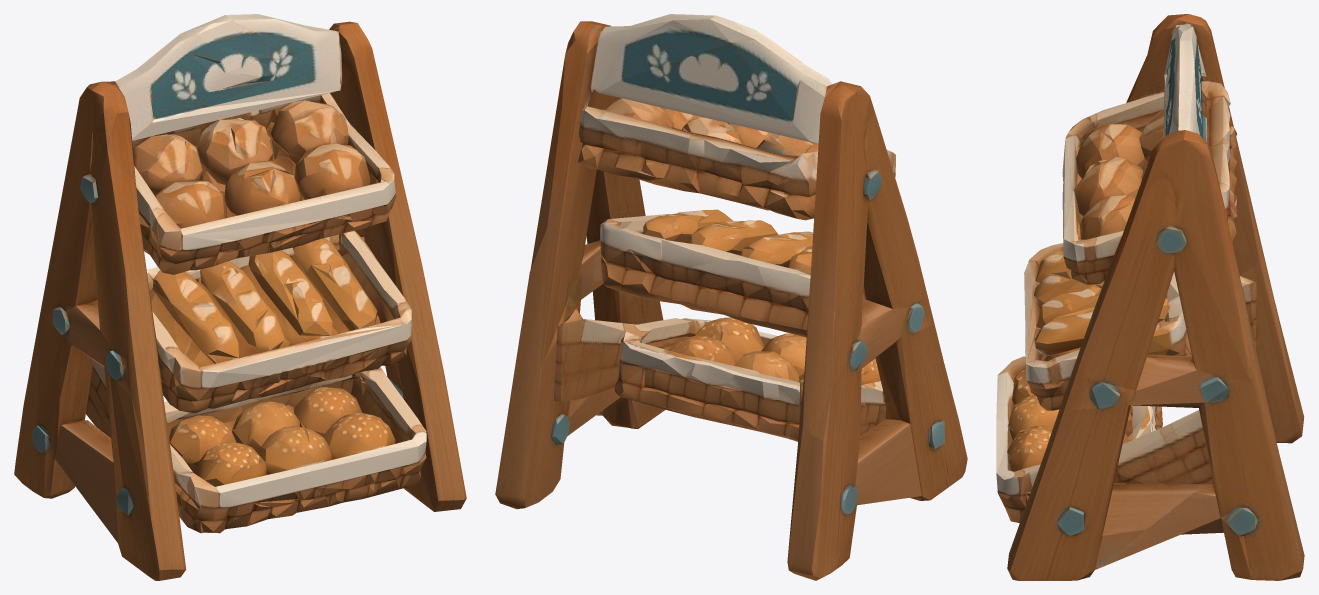
Rendered from breadStand.glb.
3 views of the same model, side by side, from view 1: azimuth 30°, elevation 25°; view 2: azimuth 150°, elevation 25°; view 3: azimuth 270°, elevation 25° (orthographic). The views are drawn at different scales.
Visible parts, largest first — view 1: Mesh_0; view 2: Mesh_0; view 3: Mesh_0.
Part boxes in pixels (x1,y1,x2,y2): Mesh_0: [14, 14, 466, 580]; Mesh_0: [495, 14, 967, 580]; Mesh_0: [996, 14, 1304, 580].
Size of the model in its own units: 0.7771 by 1.09 by 0.65.
1 material, 1 textured.
